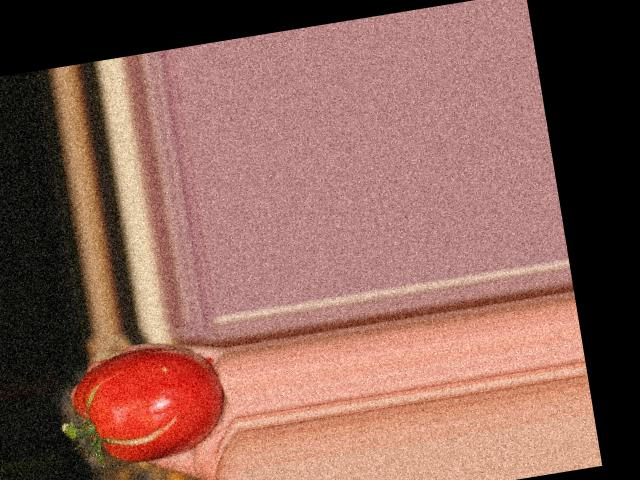tomato: (66, 337, 231, 469)
